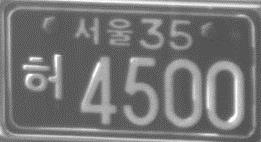0: (203, 58, 245, 133), (162, 57, 203, 129)
3: (139, 16, 165, 51)
4: (79, 54, 117, 125)
5: (122, 55, 162, 126), (168, 17, 194, 52)
서울_O: (74, 14, 133, 49)
허: (21, 53, 65, 101)
